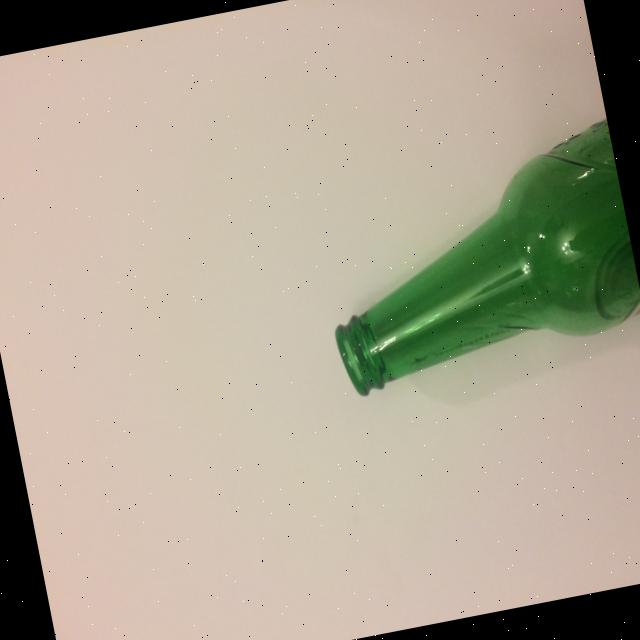glass: (303, 116, 640, 400)
